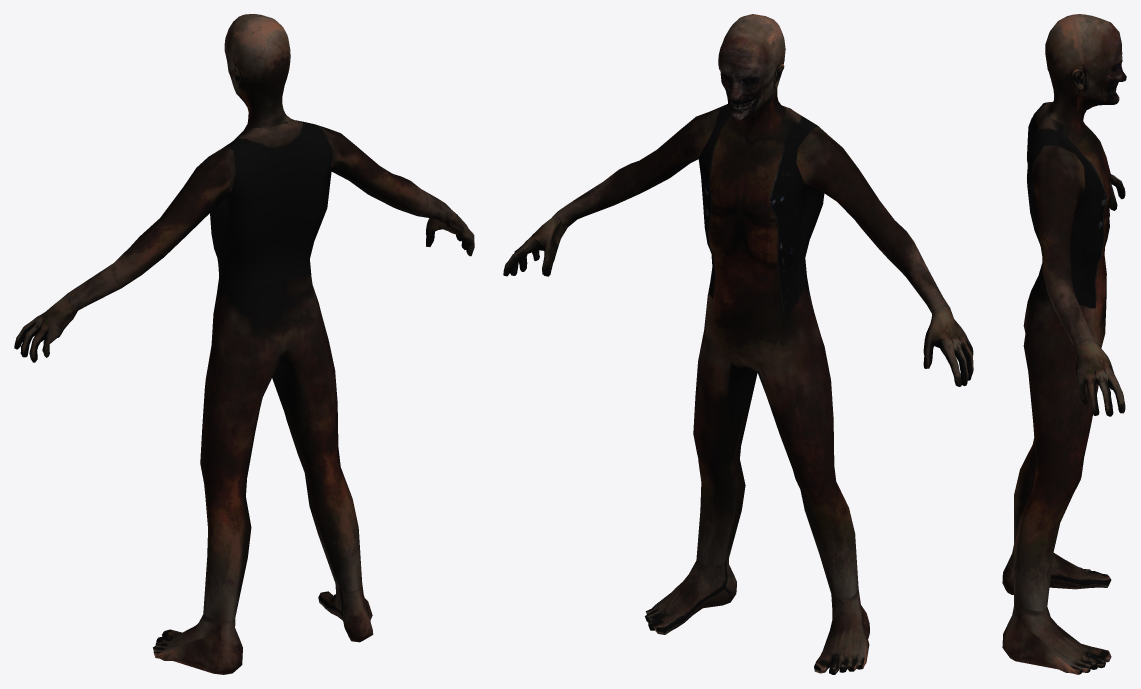
The model's file is scp-106.obj.
The picture shows the model from 3 angles, left to right: view 1: azimuth 30°, elevation 25°; view 2: azimuth 150°, elevation 25°; view 3: azimuth 270°, elevation 25°; orthographic projection. The views are drawn at different scales.
Visible parts, largest first — view 1: Scene_Root; view 2: Scene_Root; view 3: Scene_Root.
Part boxes in pixels (box(x1,y1,x2,y2)): Scene_Root: box(14, 14, 474, 674); Scene_Root: box(503, 14, 973, 674); Scene_Root: box(1002, 14, 1126, 674).
Size of the model in its own units: 7.06 by 9.26 by 1.71.
